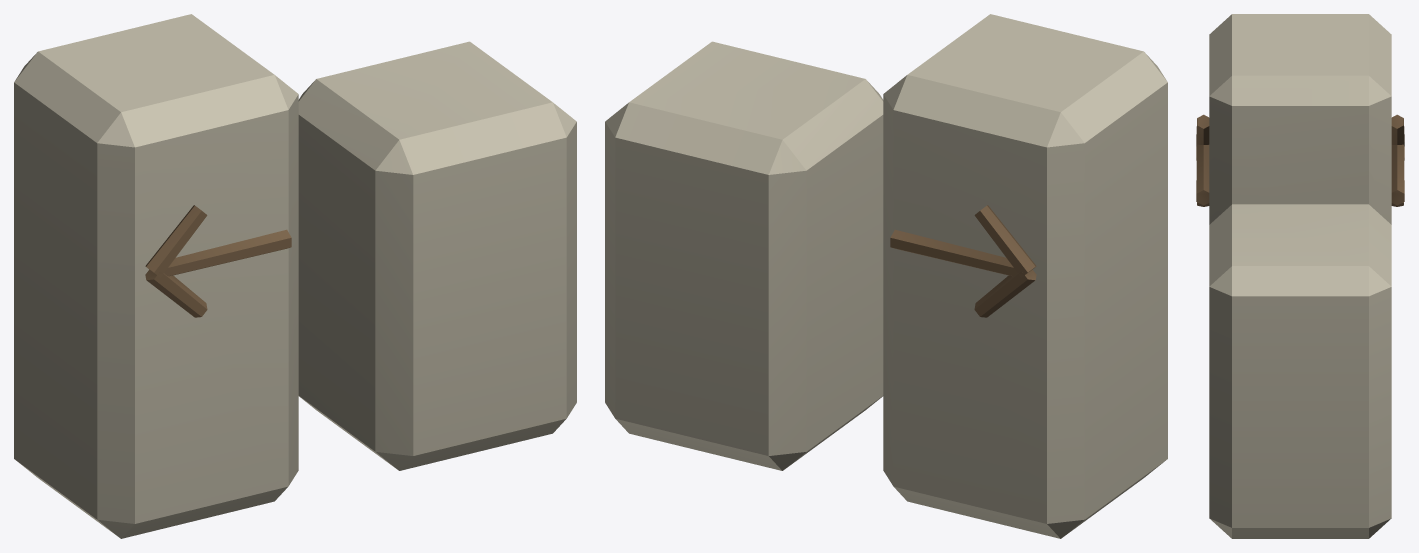
Rendered from terrace_marker.glb.
The picture shows the model from 3 angles, left to right: view 1: azimuth 30°, elevation 25°; view 2: azimuth 150°, elevation 25°; view 3: azimuth 270°, elevation 25°; orthographic projection. The views are drawn at different scales.
Visible parts, largest first — view 1: terrace_marker; view 2: terrace_marker; view 3: terrace_marker.
Part boxes in pixels (x1,y1,x2,y2): terrace_marker: (14,14,576,538); terrace_marker: (605,14,1167,538); terrace_marker: (1196,14,1404,538).
Size of the model in its own units: 1 by 0.85 by 0.4569.
